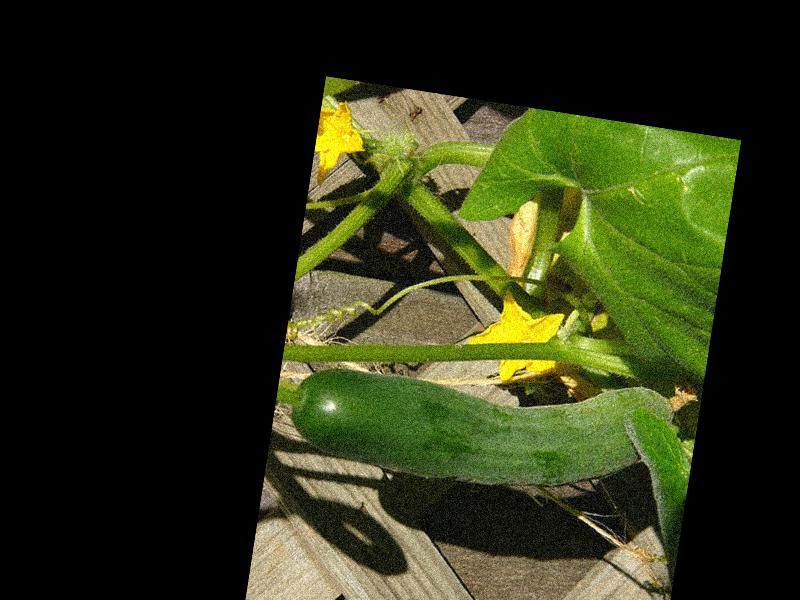Cucumber: (288, 335, 697, 517)
